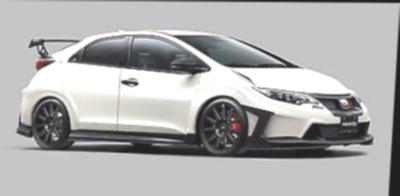License_Plate: (336, 112, 362, 134)
